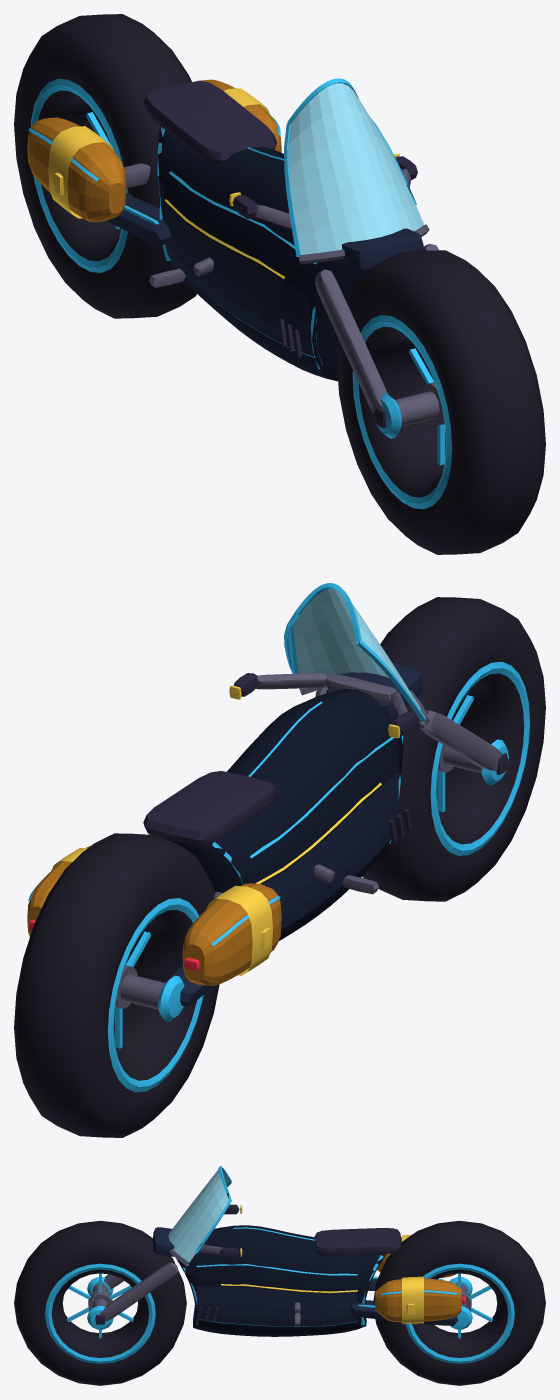
File: lightbike_a.glb
3 renders of one model, top to bottom at view 1: azimuth 30°, elevation 25°; view 2: azimuth 150°, elevation 25°; view 3: azimuth 270°, elevation 25°, orthographic. The views are drawn at different scales.
Parts seen in each view (by area): view 1: tyre_front, tyre_rear, shell, windscreen, sidePanelL, seat, bagL, forkL, rim_front_L, rim_rear_L, cowl, bagStrapL (+5 smaller); view 2: tyre_rear, tyre_front, shell, sidePanelL, seat, windscreen, bagL, rim_front_L, rim_rear_L, forkL, bagStrapL, cowl (+7 smaller); view 3: tyre_front, tyre_rear, shell, sidePanelR, windscreen, bagR, seat, rim_front_R, rim_rear_R, forkR, bagStrapR, swingR (+6 smaller).
Boxes of the visible parts, box(x1,y1,x2,y2) form: tyre_front: box(337, 250, 545, 554); tyre_rear: box(14, 14, 196, 318); shell: box(156, 126, 368, 381); windscreen: box(288, 83, 424, 254); sidePanelL: box(164, 203, 313, 356); seat: box(143, 80, 277, 164); bagL: box(27, 117, 126, 222); forkL: box(314, 269, 388, 413); rim_front_L: box(352, 315, 452, 509); rim_rear_L: box(30, 78, 128, 272); cowl: box(337, 228, 423, 269); bagStrapL: box(48, 126, 114, 218); tyre_rear: box(14, 833, 219, 1137); tyre_front: box(362, 597, 545, 901); shell: box(165, 688, 403, 940); sidePanelL: box(262, 771, 398, 928); seat: box(143, 771, 277, 845); windscreen: box(293, 589, 420, 710); bagL: box(182, 883, 281, 986); rim_front_L: box(430, 661, 530, 855); rim_rear_L: box(107, 898, 203, 1092); forkL: box(420, 710, 501, 771); bagStrapL: box(207, 885, 272, 975); cowl: box(326, 662, 423, 719); tyre_front: box(14, 1220, 186, 1385); tyre_rear: box(373, 1220, 545, 1385); shell: box(176, 1225, 386, 1336); sidePanelR: box(197, 1286, 357, 1326); windscreen: box(168, 1169, 228, 1262); bagR: box(375, 1278, 461, 1322); seat: box(314, 1228, 401, 1255); rim_front_R: box(45, 1263, 155, 1363); rim_rear_R: box(405, 1263, 514, 1363); forkR: box(100, 1262, 178, 1321); bagStrapR: box(402, 1276, 423, 1323); swingR: box(349, 1300, 457, 1325).
Bounding box in the file's own units: 1.31 × 2.14 × 4.8.
